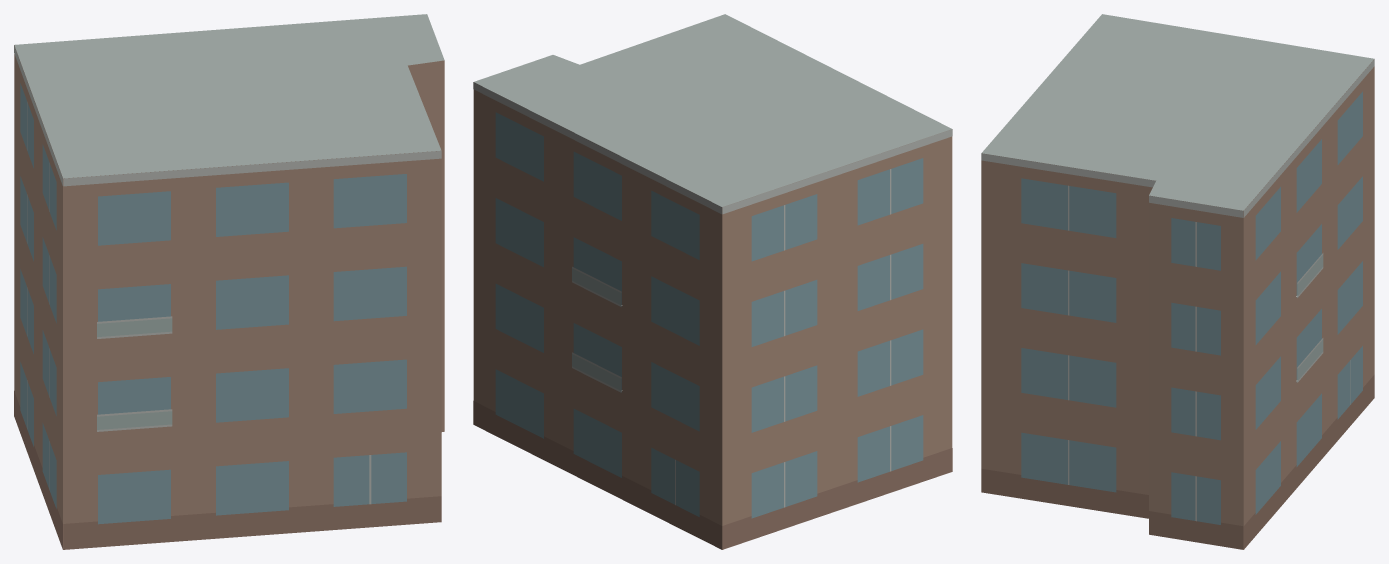
The model's file is survey-upis-32498991.glb.
3 renders of one model, left to right at view 1: azimuth 30°, elevation 25°; view 2: azimuth 150°, elevation 25°; view 3: azimuth 270°, elevation 25°, orthographic. The views are drawn at different scales.
Parts seen in each view (by area): view 1: survey-upis-32498991.tmp; view 2: survey-upis-32498991.tmp; view 3: survey-upis-32498991.tmp.
Boxes of the visible parts, x1,y1,x2,y2 form: survey-upis-32498991.tmp: (14,14,444,549); survey-upis-32498991.tmp: (473,14,952,549); survey-upis-32498991.tmp: (981,14,1374,549).
Bounding box in the file's own units: 14.22 × 11.42 × 12.01.
